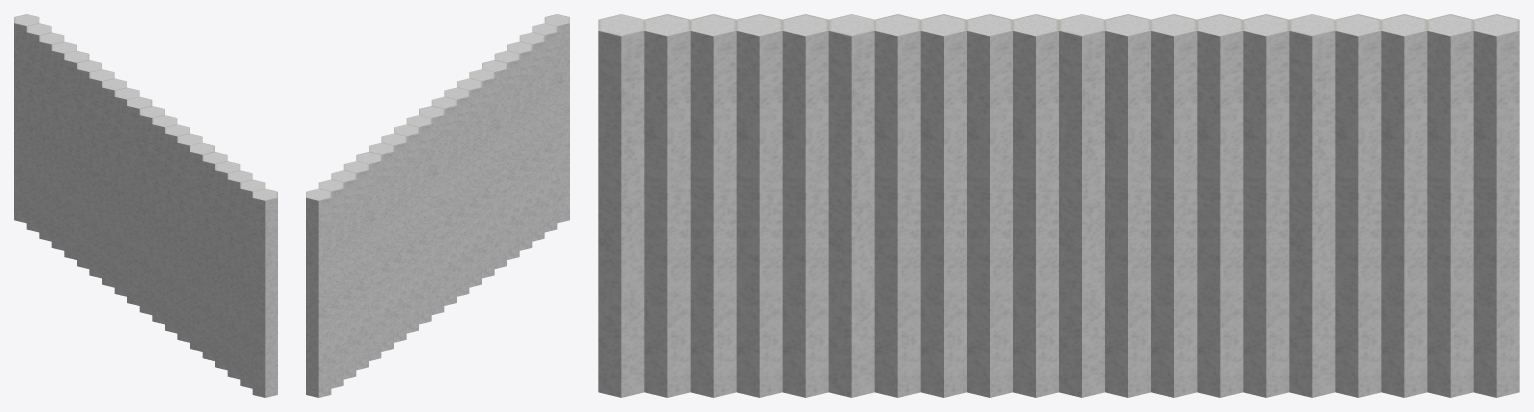
File: HexaTile_MurLimite20.FBX
3 views of the same model, side by side, from view 1: azimuth 30°, elevation 25°; view 2: azimuth 150°, elevation 25°; view 3: azimuth 270°, elevation 25° (orthographic). The views are drawn at different scales.
Parts seen in each view (by area): view 1: HexaTile_LimiteZone20; view 2: HexaTile_LimiteZone20; view 3: HexaTile_LimiteZone20.
Boxes of the visible parts, x1,y1,x2,y2 form: HexaTile_LimiteZone20: (14, 14, 277, 397); HexaTile_LimiteZone20: (306, 14, 569, 397); HexaTile_LimiteZone20: (598, 14, 1519, 397).
Bounding box in the file's own units: 1 × 7.5 × 17.32.
